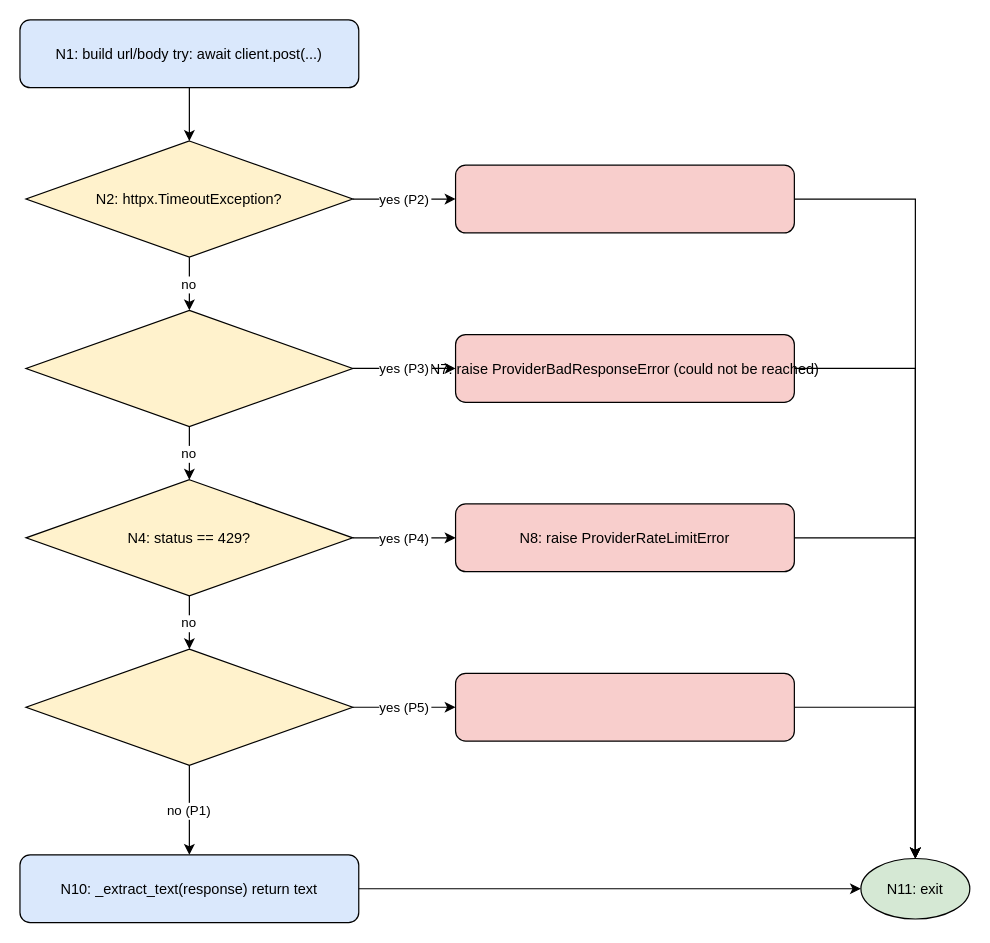
The diagram is 990 pixels wide and 943 high, and some of its shapes have lost their labels. Here are the shapes that lost their labels. From the top down, the centre of each, then its label:
At (624,198): "N6: raise ProviderTimeoutError".
At (189,368): "N3: other httpx.HTTPError?".
At (189,706): "N5: status >= 400?".
At (624,706): "N9: raise ProviderBadResponseError (rejected the request)".
